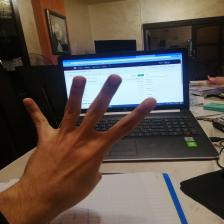four: (20, 72, 158, 199)
